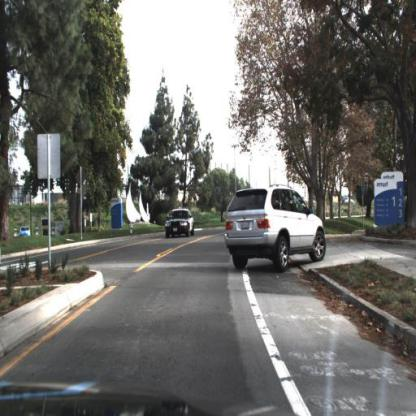car: (222, 181, 328, 272), (162, 204, 194, 240), (165, 205, 194, 238)
